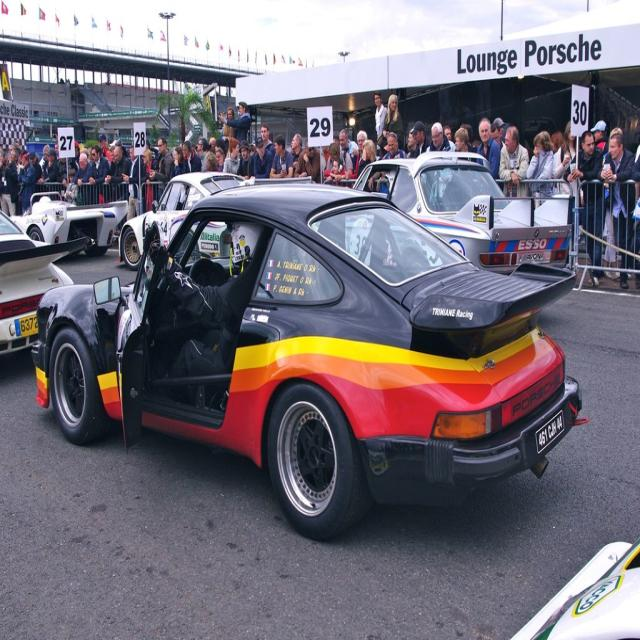car: (30, 175, 590, 543)
